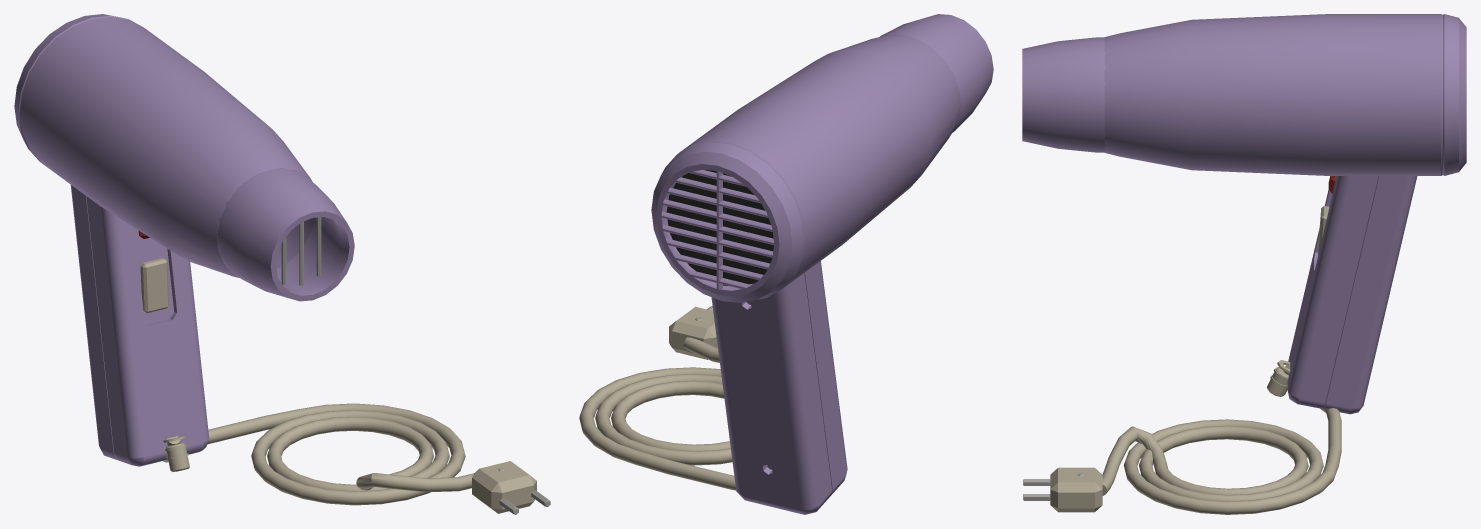
File: hair-dryer-a38c273c091e.glb
3 renders of one model, left to right at view 1: azimuth 30°, elevation 25°; view 2: azimuth 150°, elevation 25°; view 3: azimuth 270°, elevation 25°, orthographic. The views are drawn at different scales.
Visible parts, largest first — view 1: accent-lilac, plastic-light, brushed; view 2: accent-lilac, plastic-light, grille-mesh; view 3: accent-lilac, plastic-light.
Boxes of the visible parts, x1,y1,x2,y2 form: accent-lilac: [14, 14, 354, 466]; plastic-light: [140, 258, 536, 513]; brushed: [281, 217, 550, 514]; accent-lilac: [651, 14, 993, 514]; plastic-light: [579, 306, 736, 490]; grille-mesh: [666, 169, 773, 285]; accent-lilac: [1022, 14, 1466, 414]; plastic-light: [1050, 206, 1341, 514].
Size of the model in its own units: 0.1826 by 0.217 by 0.2295.
